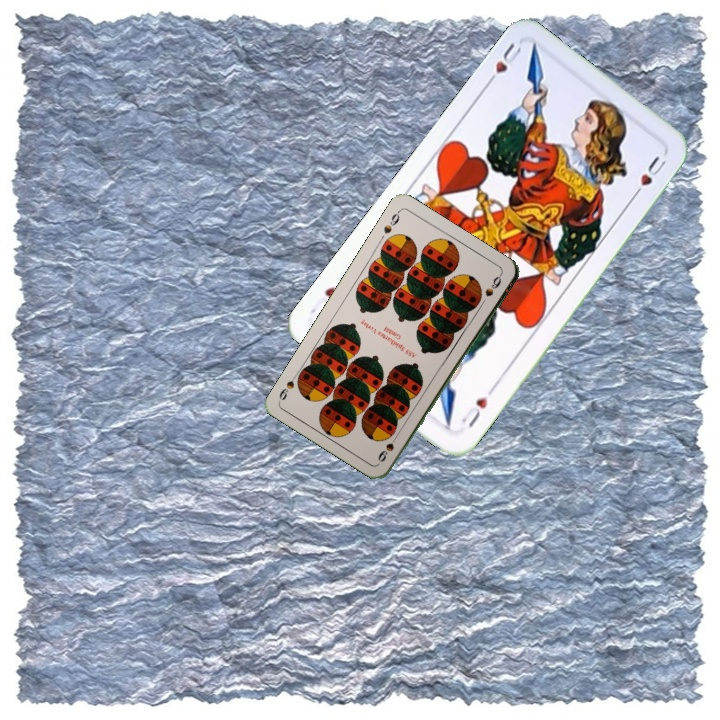HU: (481, 38, 526, 90), (457, 392, 490, 430)
S9: (374, 429, 402, 465), (379, 206, 403, 236)
